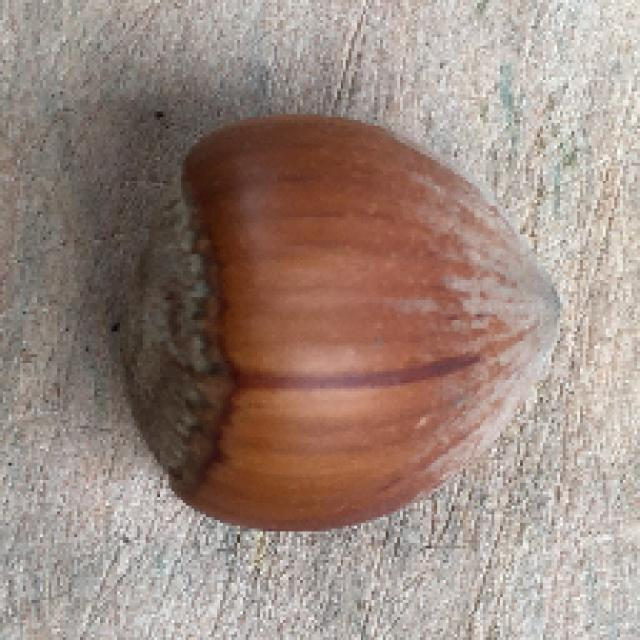qualityHazelnut: (108, 117, 576, 538)
